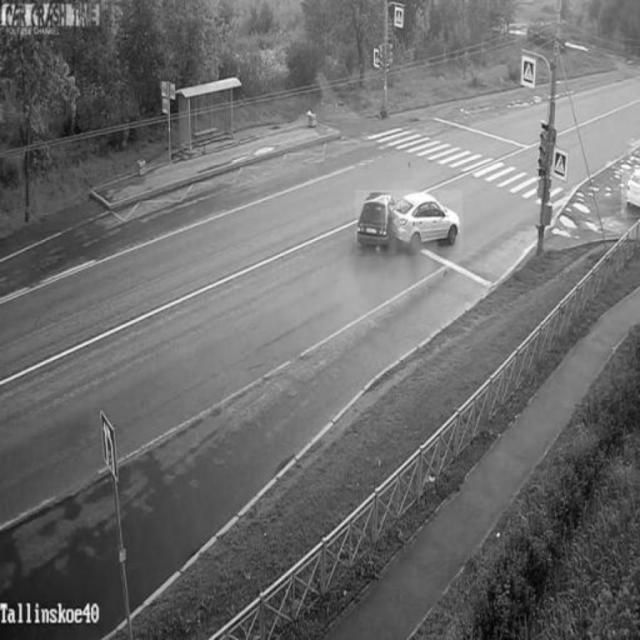accident: (355, 190, 463, 254)
vehicle: (621, 166, 640, 217)
